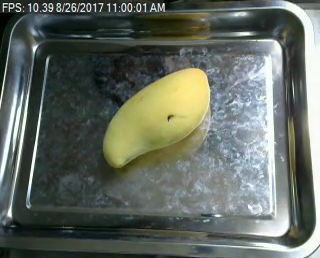Mango: (92, 61, 218, 167)
